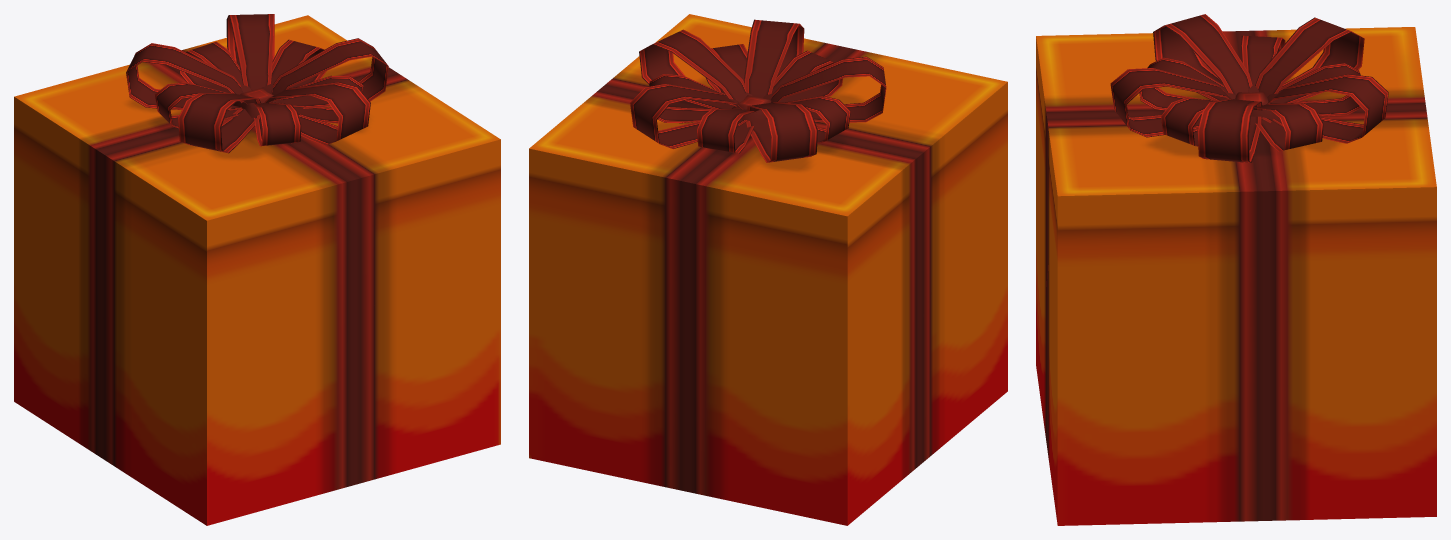
The model's file is Gift3.FBX.
The picture shows the model from 3 angles, left to right: view 1: azimuth 30°, elevation 25°; view 2: azimuth 150°, elevation 25°; view 3: azimuth 270°, elevation 25°; orthographic projection. The views are drawn at different scales.
Parts seen in each view (by area): view 1: Gift3; view 2: Gift3; view 3: Gift3.
Part boxes in pixels (x1,y1,x2,y2): Gift3: [14, 14, 500, 525]; Gift3: [529, 14, 1007, 525]; Gift3: [1036, 14, 1436, 525].
Bounding box in the file's own units: 12.66 × 13.32 × 12.66.
1 material, 1 textured.
